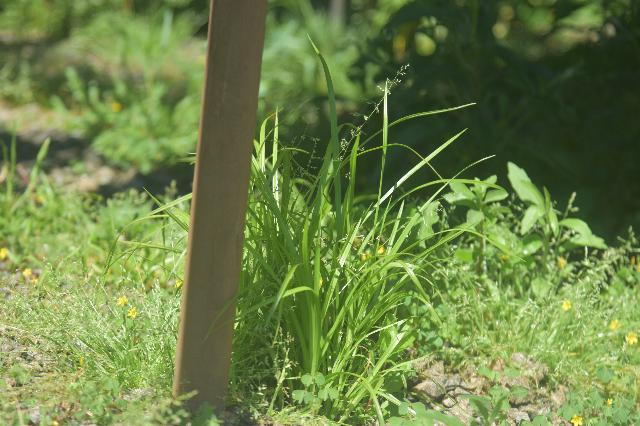MalezaMontesDelPlata: (255, 112, 414, 406), (414, 306, 640, 426), (9, 270, 184, 391), (505, 162, 612, 315), (430, 171, 506, 307)
